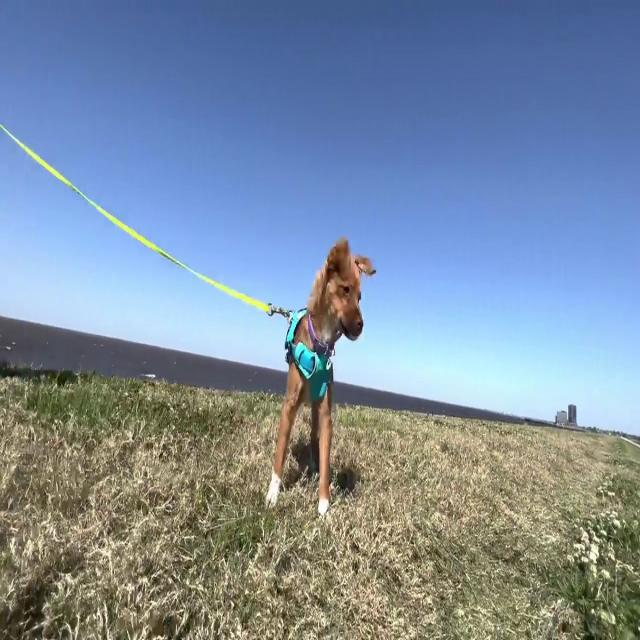Dog: (265, 235, 376, 516)
